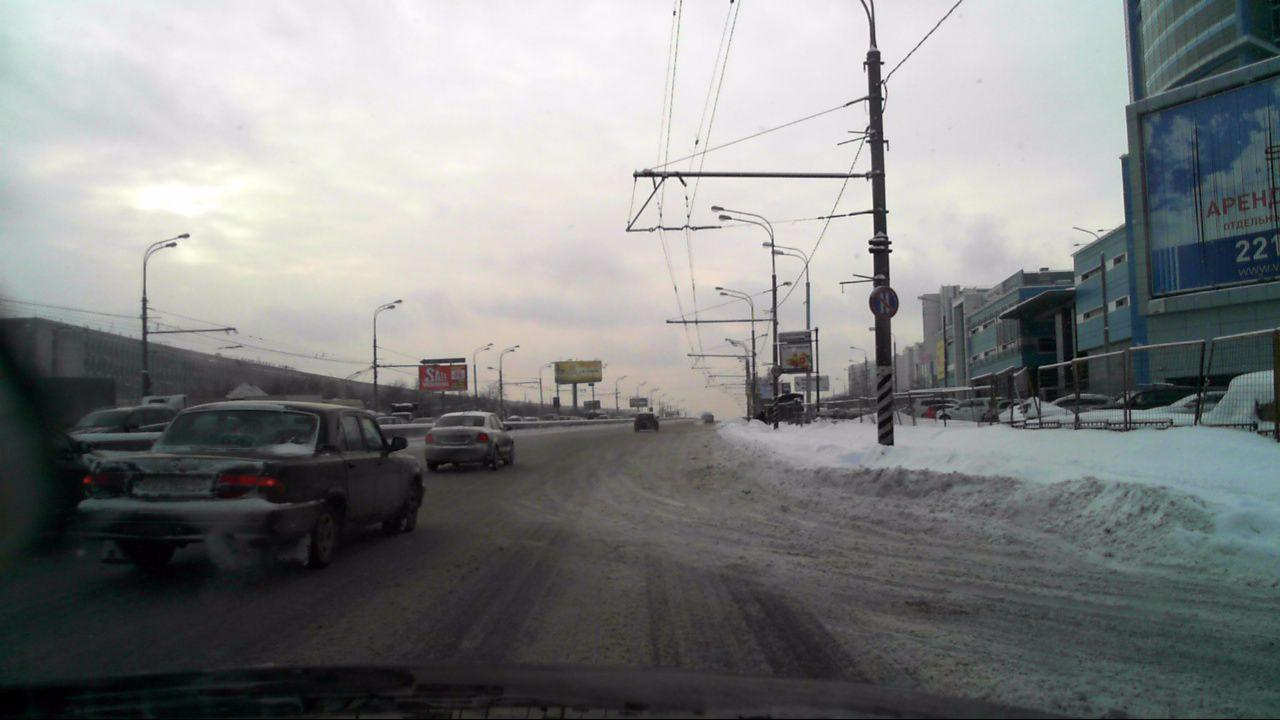3_30: (869, 287, 901, 320)
